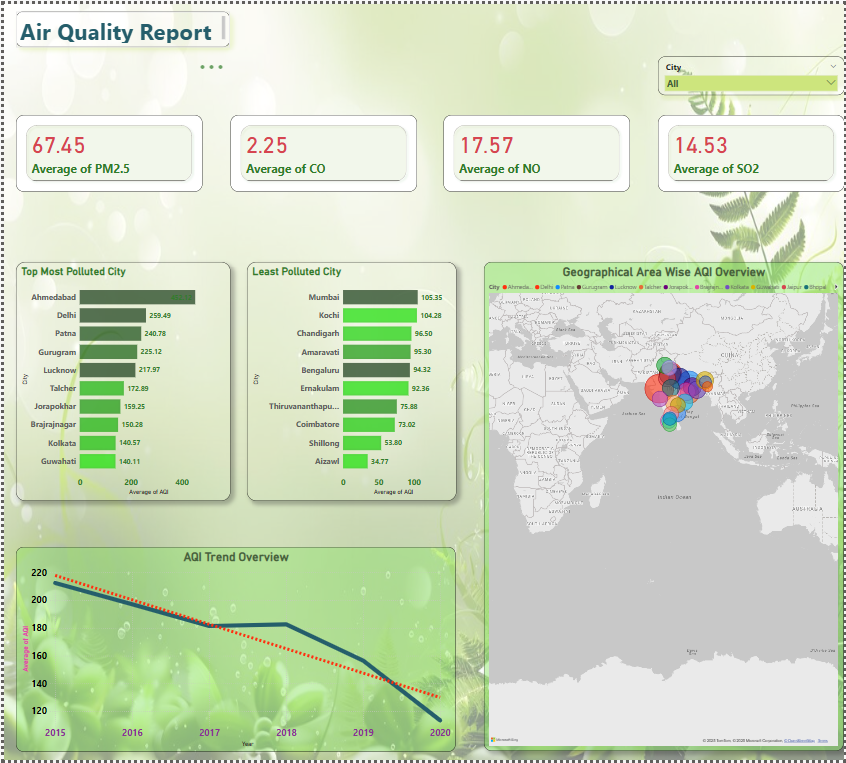

This screenshot's page, from the dashboard's own definition file:
{"tool":"powerbi","page":{"name":"Page 1","canvas":[2000,1800],"ordinal":0},"visuals":[{"type":"lineChart","title":"AQI Trend Overview","fields":{"Category":["city_day.Date.Variation.Date Hierarchy.Year","city_day.Date.Variation.Date Hierarchy.Quarter","city_day.Date.Variation.Date Hierarchy.Month","city_day.Date.Variation.Date Hierarchy.Day"],"Y":["Avg(city_day.AQI)"]},"box":[29.7,1292.2,1046.9,487.5],"z":0},{"type":"slicer","fields":{"Values":["city_day.City"]},"box":[1556.2,123.4,443.8,92.2],"z":1000},{"type":"barChart","title":"Top Most Polluted City","fields":{"Category":["city_day.City"],"Y":["Avg(city_day.AQI)"]},"box":[29.7,615.6,510.9,568.8],"z":2000},{"type":"barChart","title":"Least Polluted City","fields":{"Category":["city_day.City"],"Y":["Avg(city_day.AQI)"]},"box":[578.1,615.6,498.4,568.8],"z":3000},{"type":"cardVisual","fields":{"Data":["Avg(city_day.PM2.5)"]},"box":[29.7,266,443.8,182.8],"z":4000},{"type":"cardVisual","fields":{"Data":["Avg(city_day.NO)"]},"box":[1047.4,266,443.8,182.8],"z":5000},{"type":"cardVisual","fields":{"Data":["Avg(city_day.SO2)"]},"box":[1556.2,266,443.8,182.8],"z":6000},{"type":"cardVisual","fields":{"Data":["Avg(city_day.CO)"]},"box":[538.5,266,443.8,182.8],"z":7000},{"type":"map","title":"Geographical Area Wise AQI Overview","fields":{"Category":["city_day.City"],"Size":["Avg(city_day.AQI)"],"Series":["city_day.City"]},"box":[1143.8,615.6,856.2,1164.1],"z":8000},{"type":"textbox","box":[29.7,18.8,509.4,84.4],"z":8001}]}

Visuals, with their boxes in screenshot pixels (x1, y1, x2, y2), scaled from the page's 2000x1800 canvas onto the 846x763 screenshot:
"AQI Trend Overview" lineChart: BBox(13, 548, 455, 754)
slicer - city_day.City: BBox(658, 52, 845, 91)
"Top Most Polluted City" barChart: BBox(13, 261, 229, 502)
"Least Polluted City" barChart: BBox(245, 261, 455, 502)
cardVisual - Avg(city_day.PM2.5): BBox(13, 113, 200, 190)
cardVisual - Avg(city_day.NO): BBox(443, 113, 631, 190)
cardVisual - Avg(city_day.SO2): BBox(658, 113, 845, 190)
cardVisual - Avg(city_day.CO): BBox(228, 113, 416, 190)
"Geographical Area Wise AQI Overview" map: BBox(484, 261, 845, 754)
textbox: BBox(13, 8, 228, 44)
